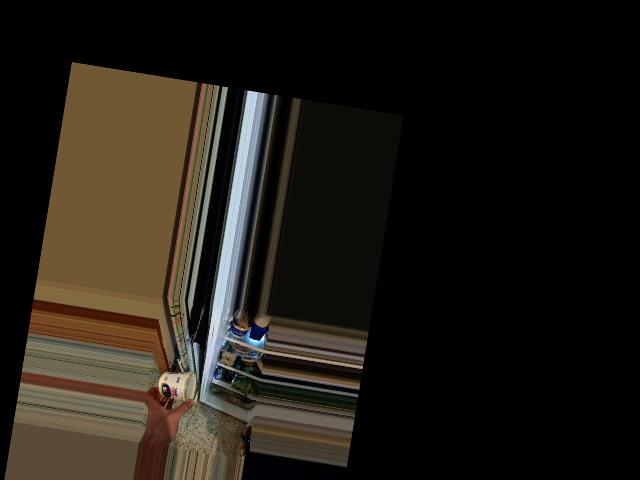cotage: (153, 365, 196, 402)
